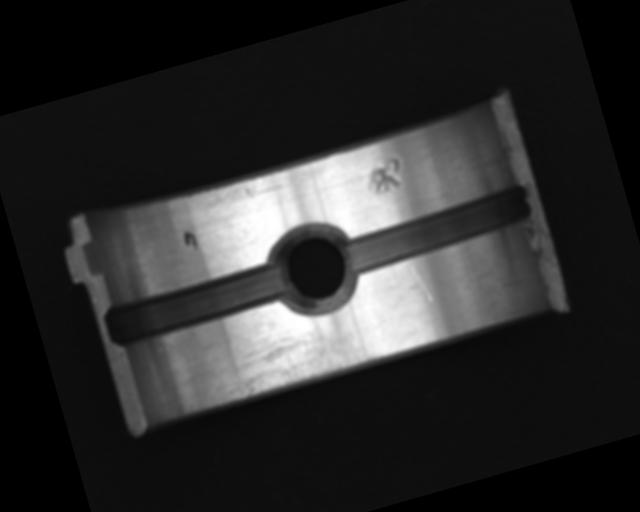blot: (181, 226, 200, 254)
bruise: (361, 154, 407, 198)
gap: (338, 180, 536, 277), (101, 257, 292, 348)
hole: (261, 214, 368, 324)
nick: (406, 257, 433, 305)
scratch: (200, 312, 384, 408)
